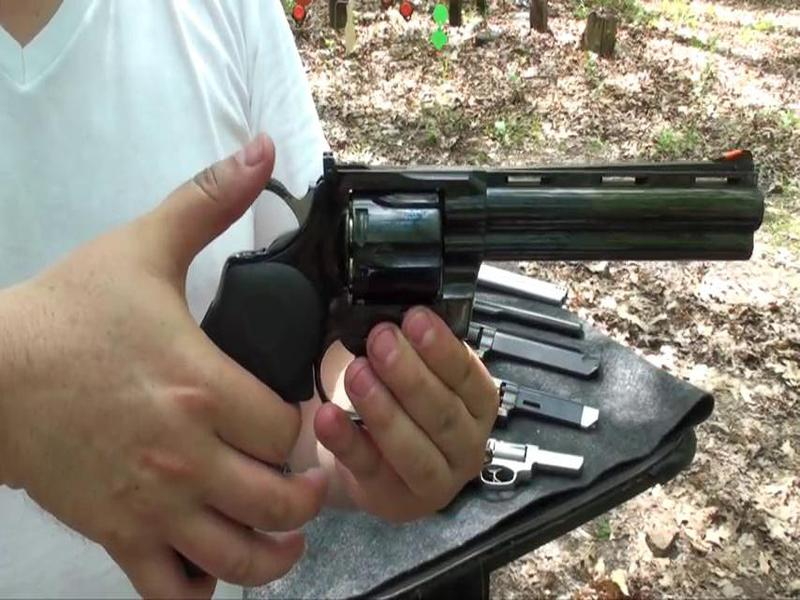Revolver: (146, 148, 777, 438)
